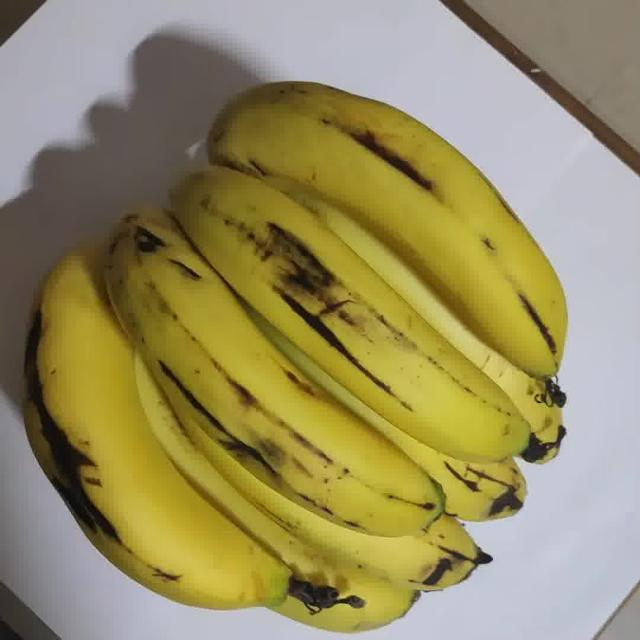banana_pacche: (0, 12, 615, 629)
